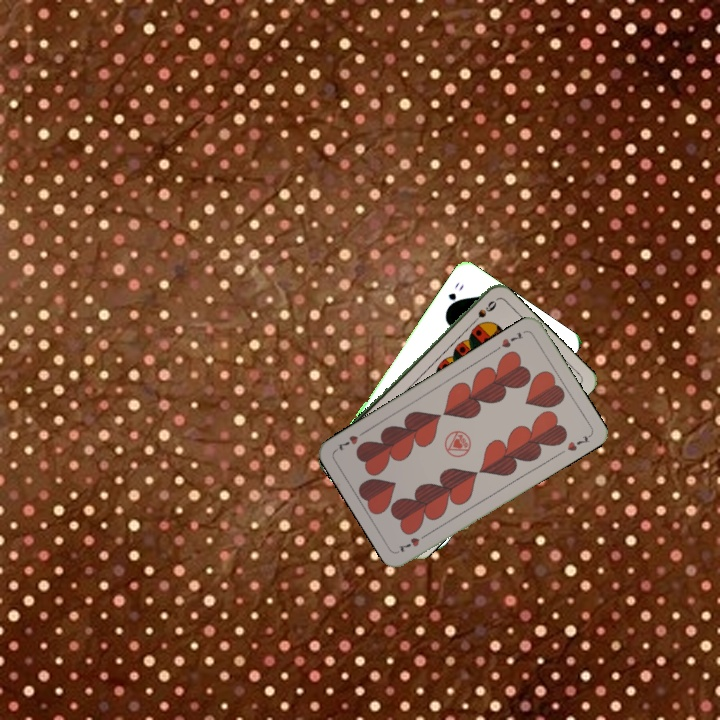GO: (443, 278, 467, 313)
H7: (394, 529, 431, 555), (491, 328, 526, 354)
S9: (466, 296, 499, 329)
